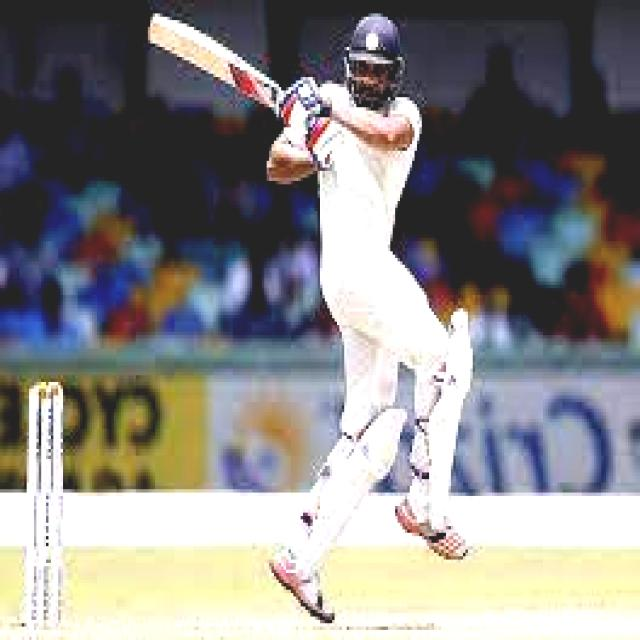toe: (145, 9, 160, 55)
